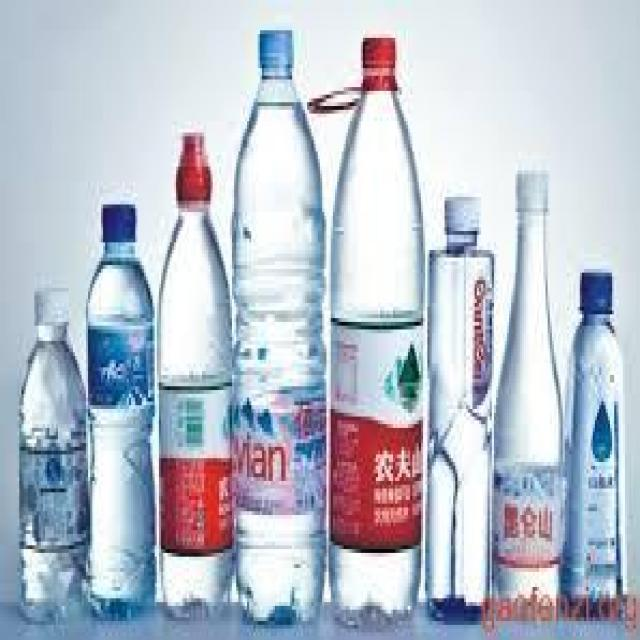bottle: (233, 20, 323, 630)
